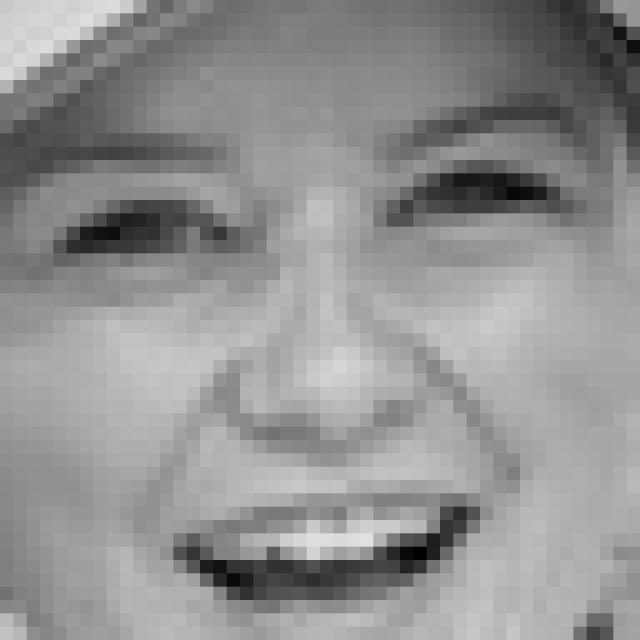happy: (24, 98, 603, 640)
